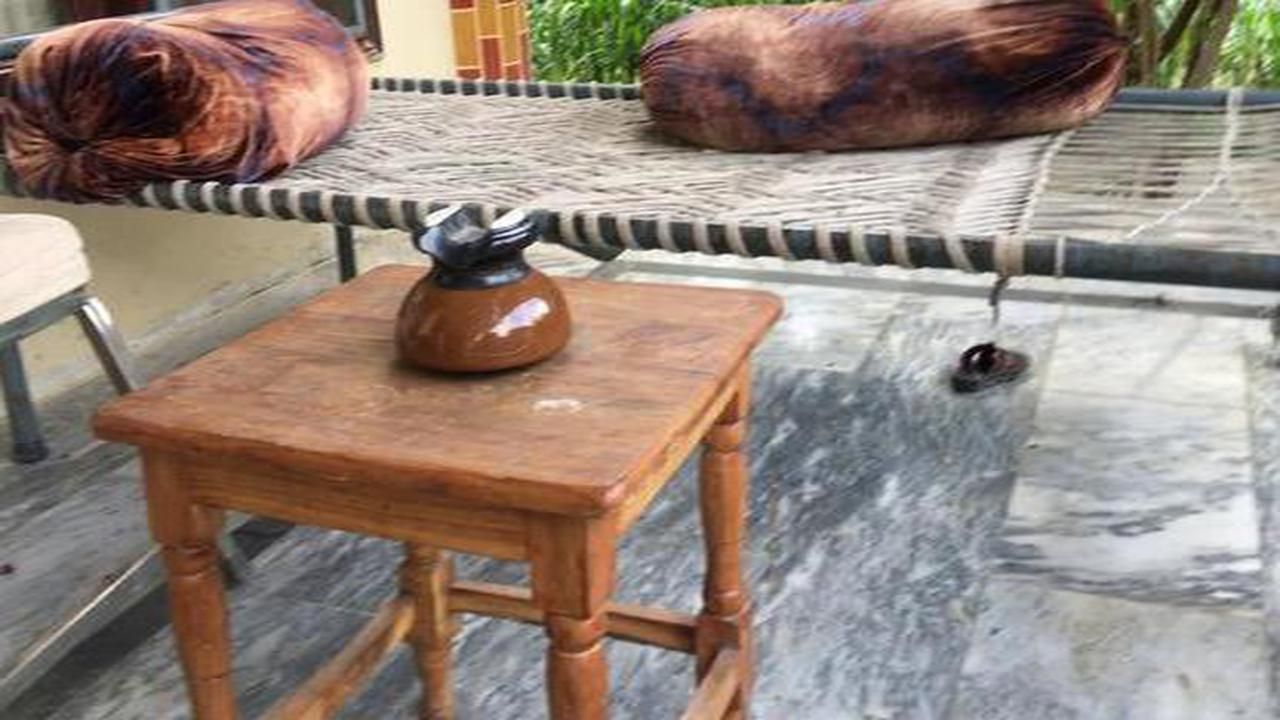insulator_pin: (376, 189, 594, 380)
